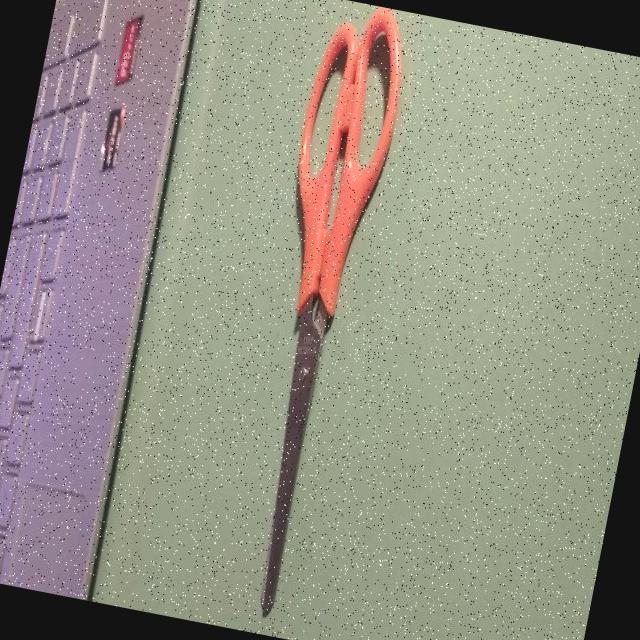scissors: (198, 0, 424, 638)
